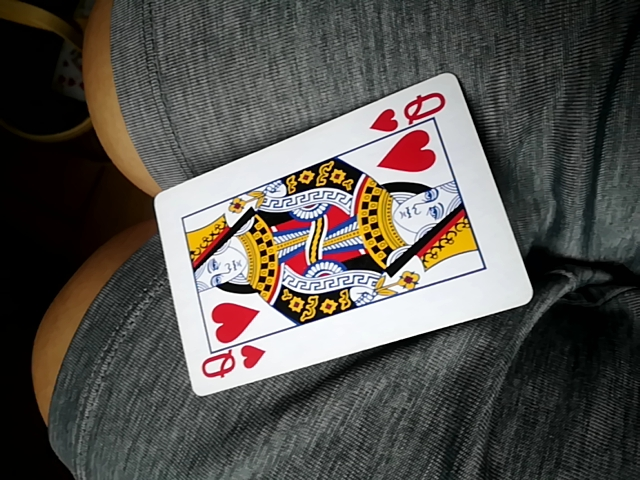hx q: (143, 75, 538, 401)
